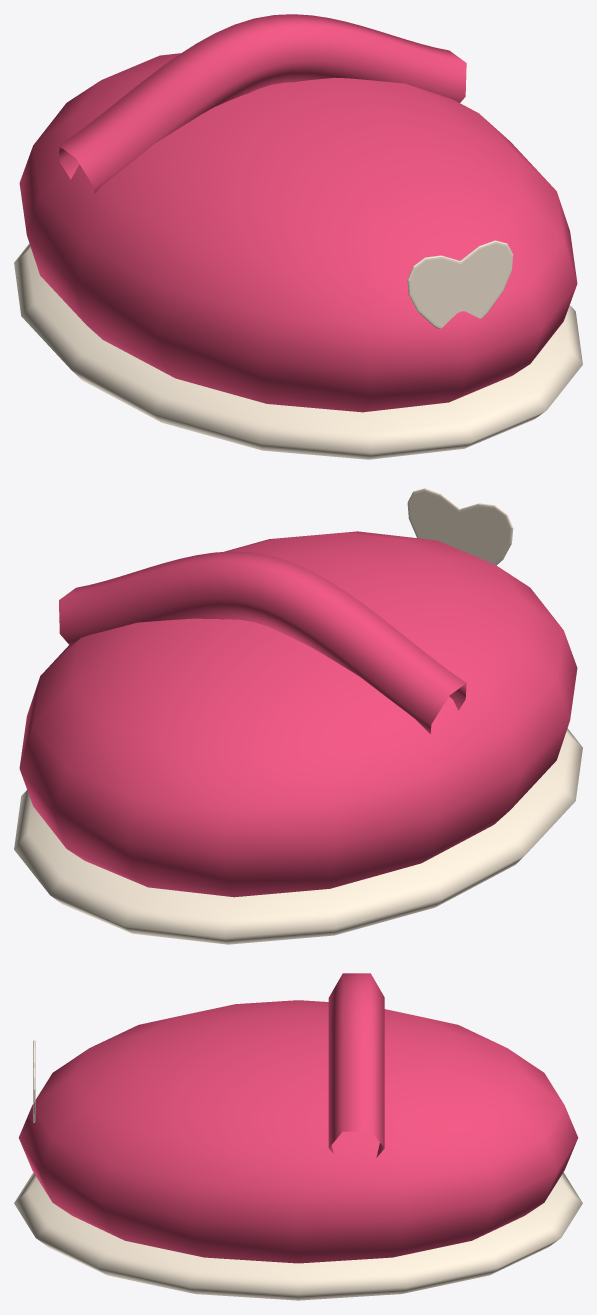
The model's file is shoes_chic.glb.
3 views of the same model, one above another, from view 1: azimuth 30°, elevation 25°; view 2: azimuth 150°, elevation 25°; view 3: azimuth 270°, elevation 25° (orthographic). The views are drawn at different scales.
Visible parts, largest first — view 1: Zapatos chic; view 2: Zapatos chic; view 3: Zapatos chic.
Part boxes in pixels (x1=…): Zapatos chic: x1=14, y1=14, x2=582, y2=459; Zapatos chic: x1=14, y1=488, x2=582, y2=944; Zapatos chic: x1=14, y1=973, x2=582, y2=1300.
Bounding box in the file's own units: 0.184 × 0.1204 × 0.244.
